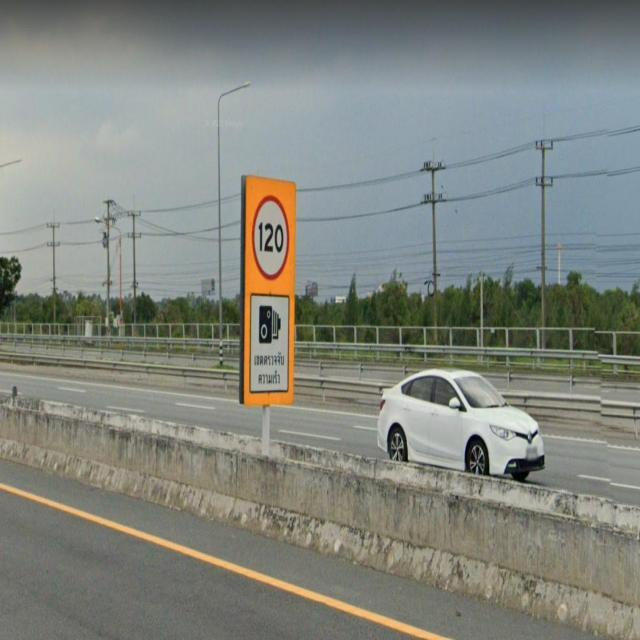car: (378, 370, 545, 481)
